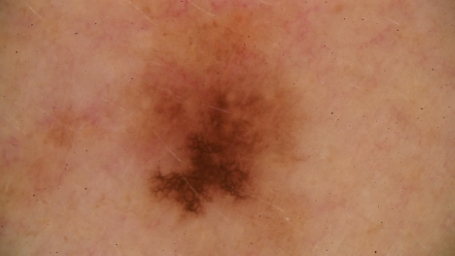nevus: (148, 78, 297, 219)
